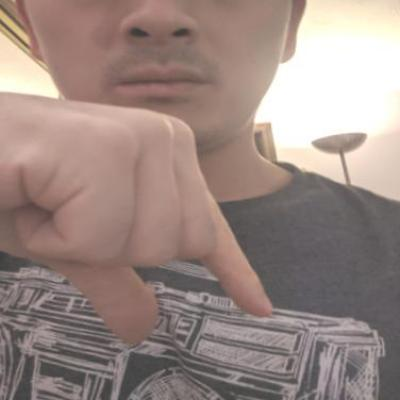hand: (0, 65, 283, 362)
